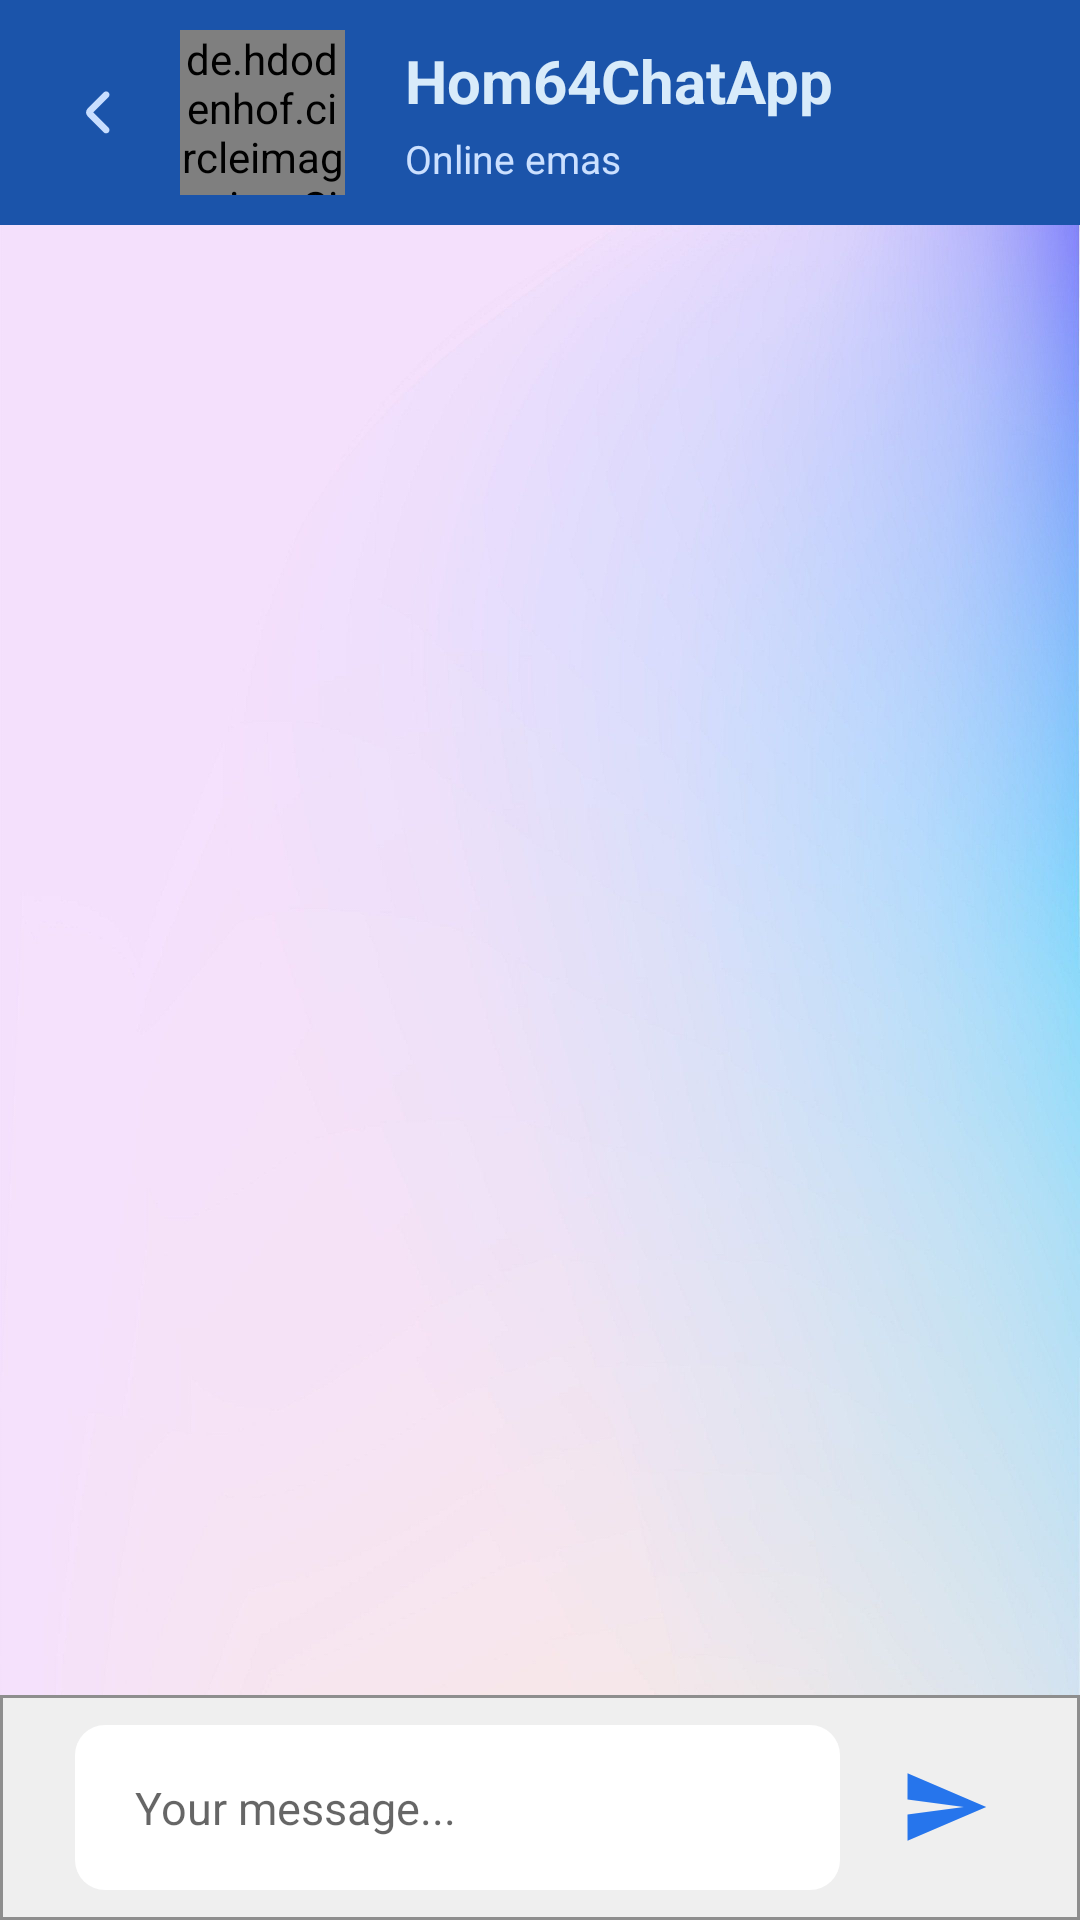

Point at icon controls on the screen. Image size 1080 × 1920, points as (x=x, y=y).
back: (x=98, y=112)
send: (x=946, y=1807)
